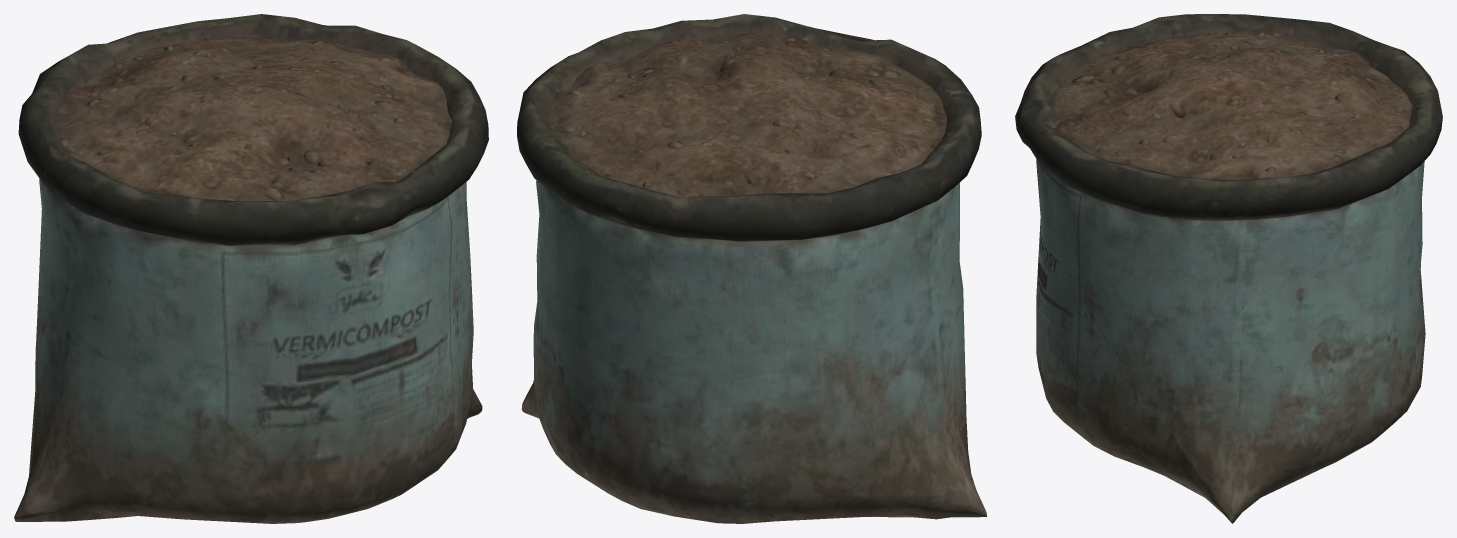
The model's file is compost.glb.
The picture shows the model from 3 angles, left to right: view 1: azimuth 30°, elevation 25°; view 2: azimuth 150°, elevation 25°; view 3: azimuth 270°, elevation 25°; orthographic projection. The views are drawn at different scales.
Visible parts, largest first — view 1: compost_bag_02; view 2: compost_bag_02; view 3: compost_bag_02.
Part boxes in pixels (x1,y1,x2,y2): compost_bag_02: (14,14,488,523); compost_bag_02: (517,14,986,523); compost_bag_02: (1015,14,1442,523).
Size of the model in its own units: 0.5381 by 0.4336 by 0.4705.
1 material, 1 textured.
